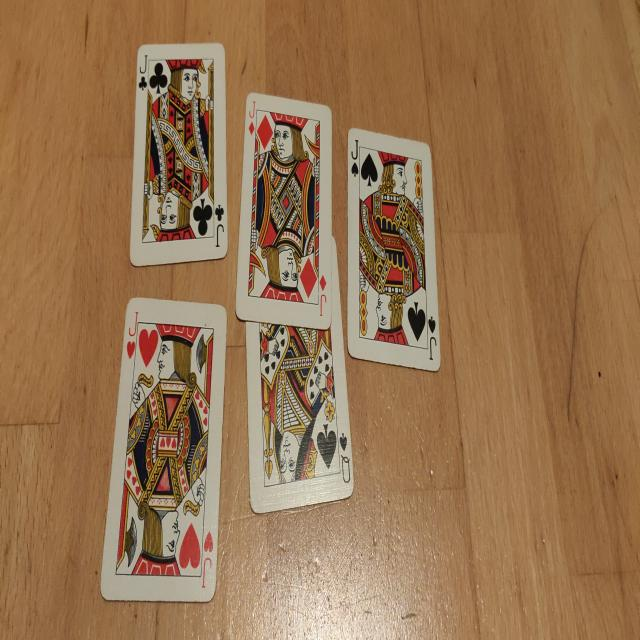Club: (193, 199, 213, 236), (150, 63, 168, 94), (215, 205, 224, 221), (139, 76, 147, 91)
Diamond: (300, 257, 317, 299), (257, 115, 273, 150), (319, 274, 326, 292), (248, 122, 254, 136)
Heart: (179, 522, 201, 568), (138, 329, 158, 367), (204, 531, 213, 553), (127, 342, 135, 359)
Jack: (202, 558, 212, 588), (129, 312, 139, 336), (216, 224, 224, 247), (429, 337, 436, 360), (140, 55, 148, 74), (320, 294, 326, 316), (352, 140, 358, 160), (249, 101, 256, 118)
Queen: (341, 454, 351, 484)
Spade: (316, 424, 336, 469), (408, 302, 426, 342), (361, 153, 378, 187), (428, 316, 436, 334), (340, 433, 347, 451), (352, 162, 358, 177)
